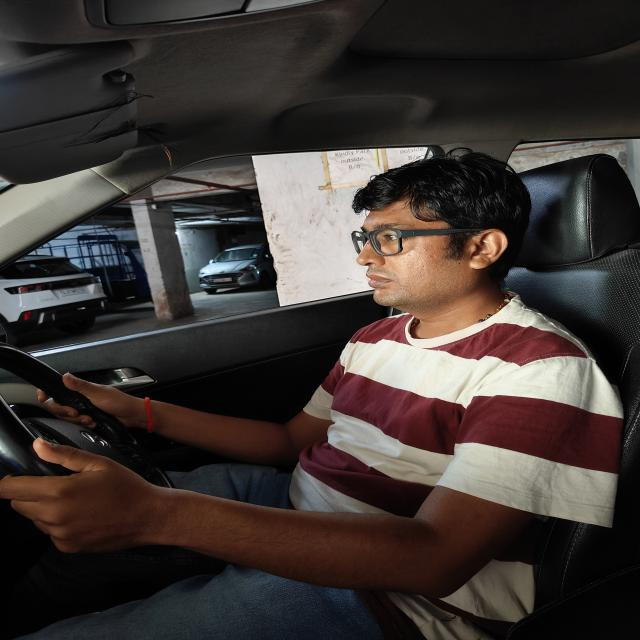no-seatbelt: (303, 315, 573, 640)
